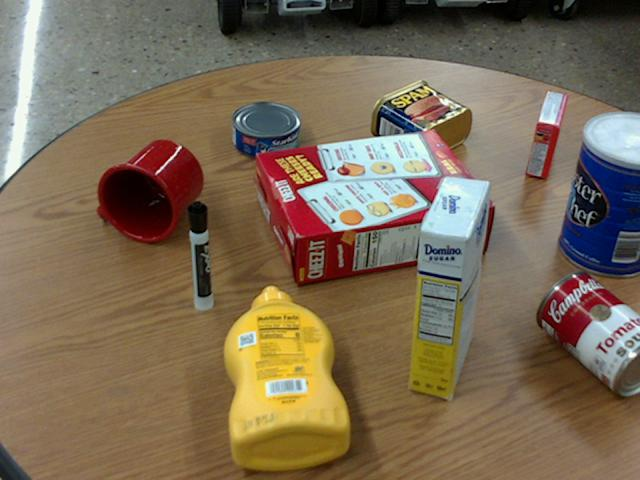cracker_box: (255, 130, 491, 284)
gelatin_box: (526, 91, 567, 177)
large_marker: (187, 200, 211, 309)
master_chef_can: (559, 112, 639, 277)
mug: (97, 139, 201, 242)
mustard_bottle: (223, 286, 349, 468)
potted_meat_can: (370, 80, 471, 158)
sugar_box: (408, 175, 489, 398)
tomato_soup_can: (537, 270, 639, 392)
tuna_fish_can: (231, 101, 300, 157)
